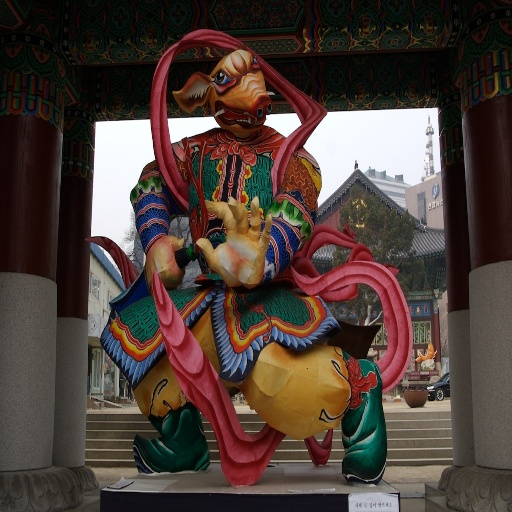hand: (204, 195, 275, 290), (144, 232, 187, 290)
